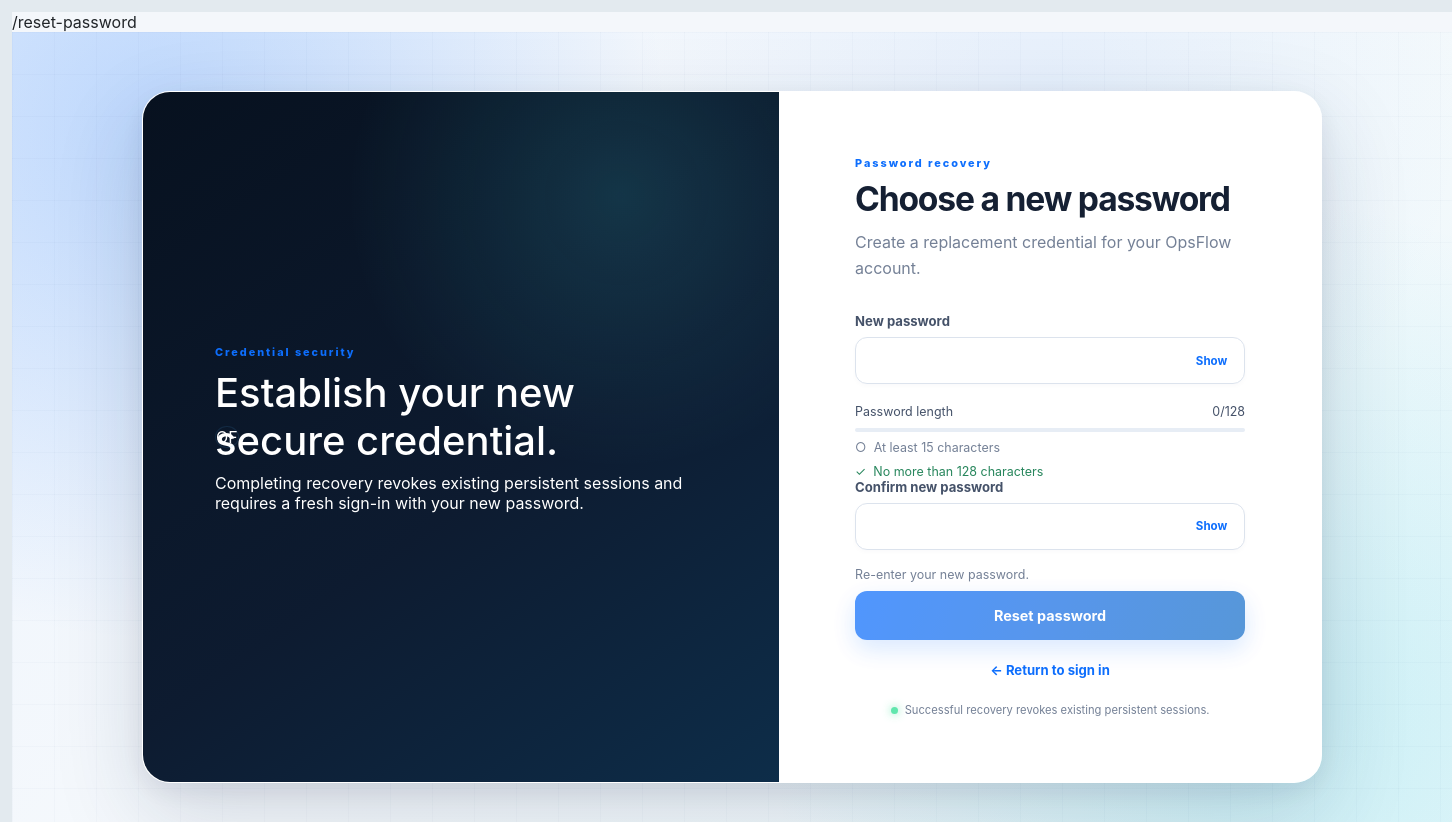
ResetPasswordPage password policy › shows the mismatch state when password confirmation differs
This screenshot has width=1452, height=822.
In the password field labelled "New password": (1023, 361) left=856, top=338, right=1189, bottom=383, type "CorrectHorseBatteryStaple!"
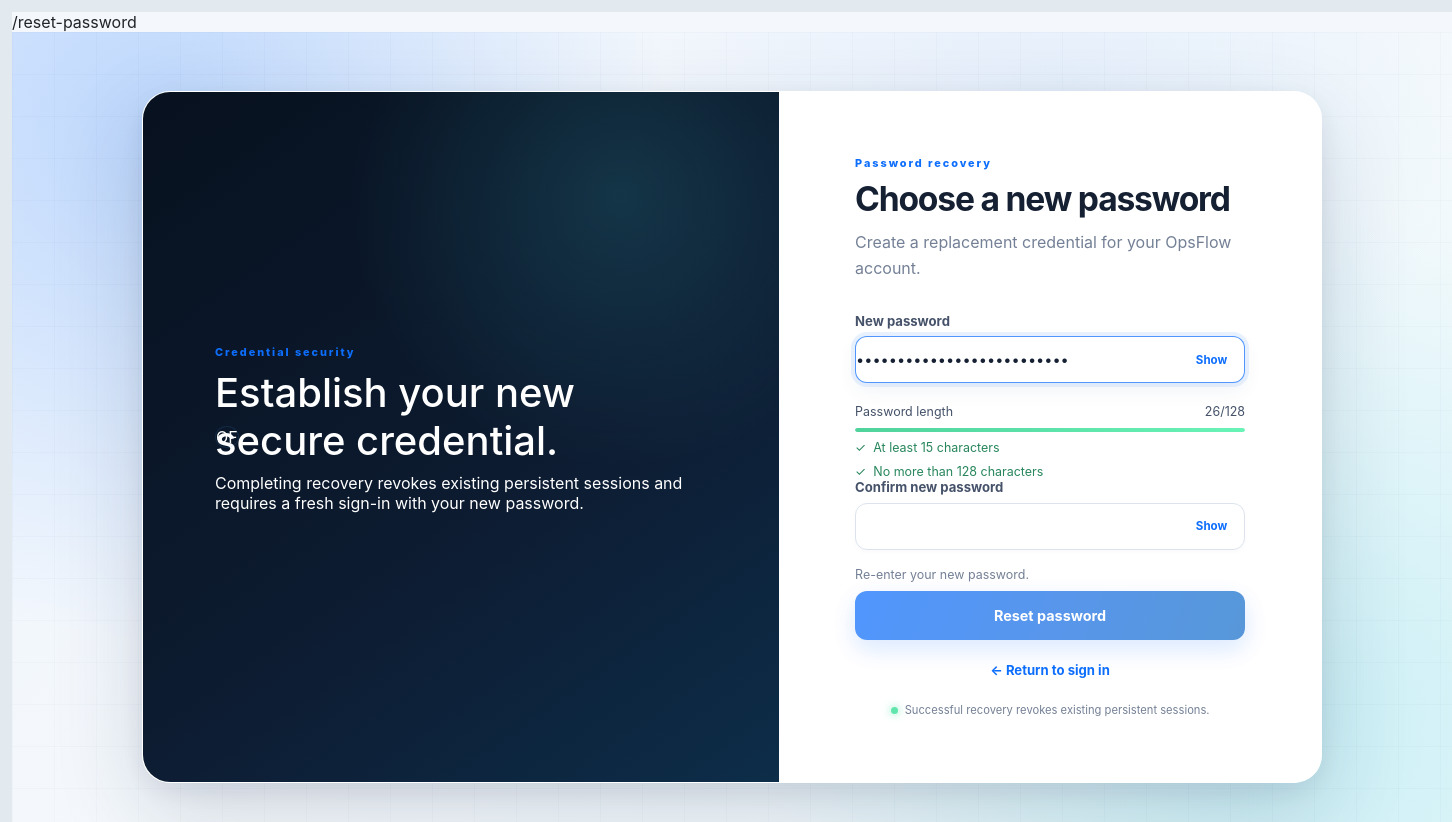
In the password field labelled "Confirm new password": (1023, 526) left=856, top=504, right=1189, bottom=549, type "DifferentSecurePassword123!"
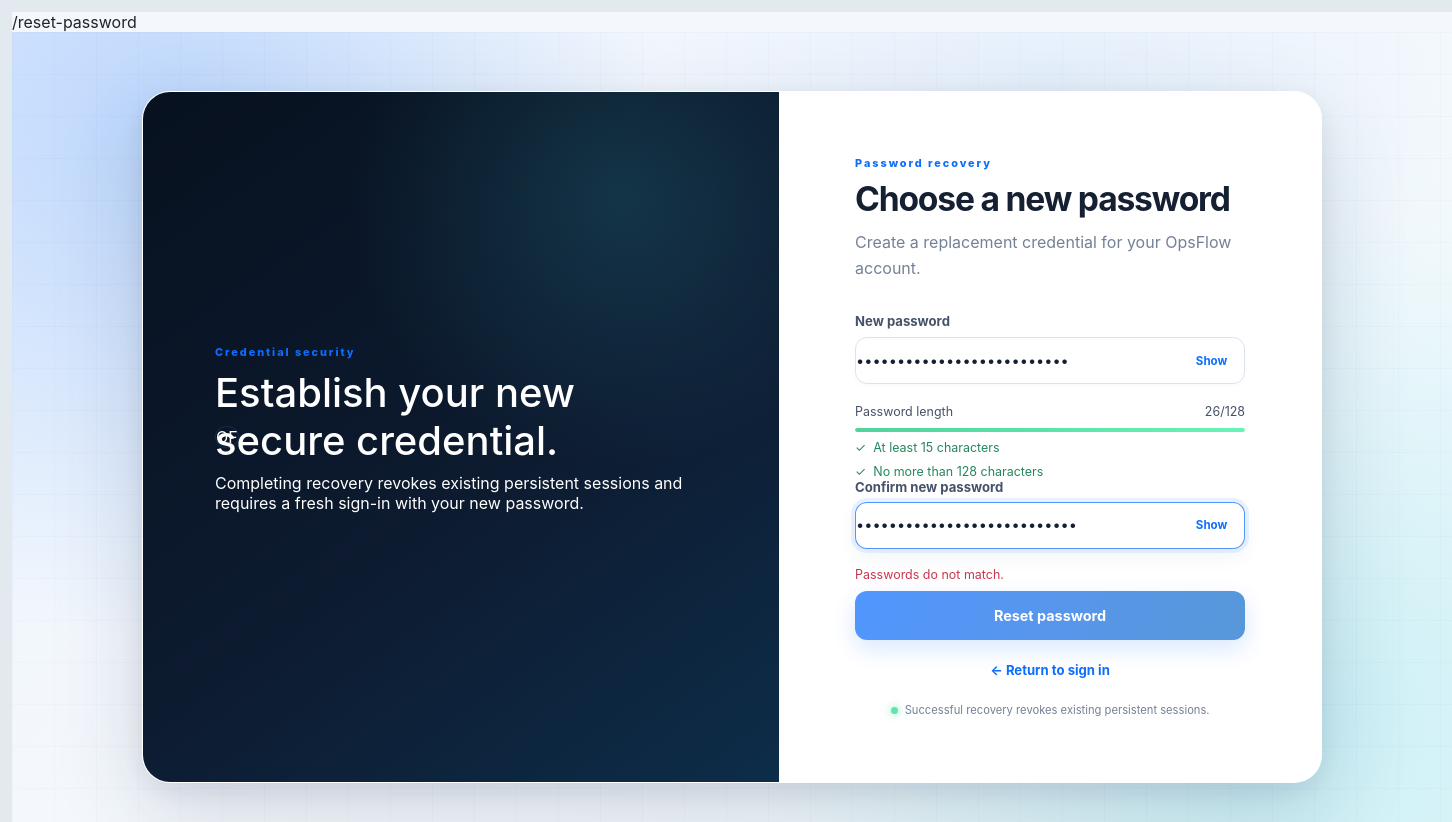
expect the button "Reset password" is disabled: met, box left=855, top=591, right=1245, bottom=640
expect the text "Passwords do not match." is shown: met, box left=855, top=566, right=1004, bottom=582
